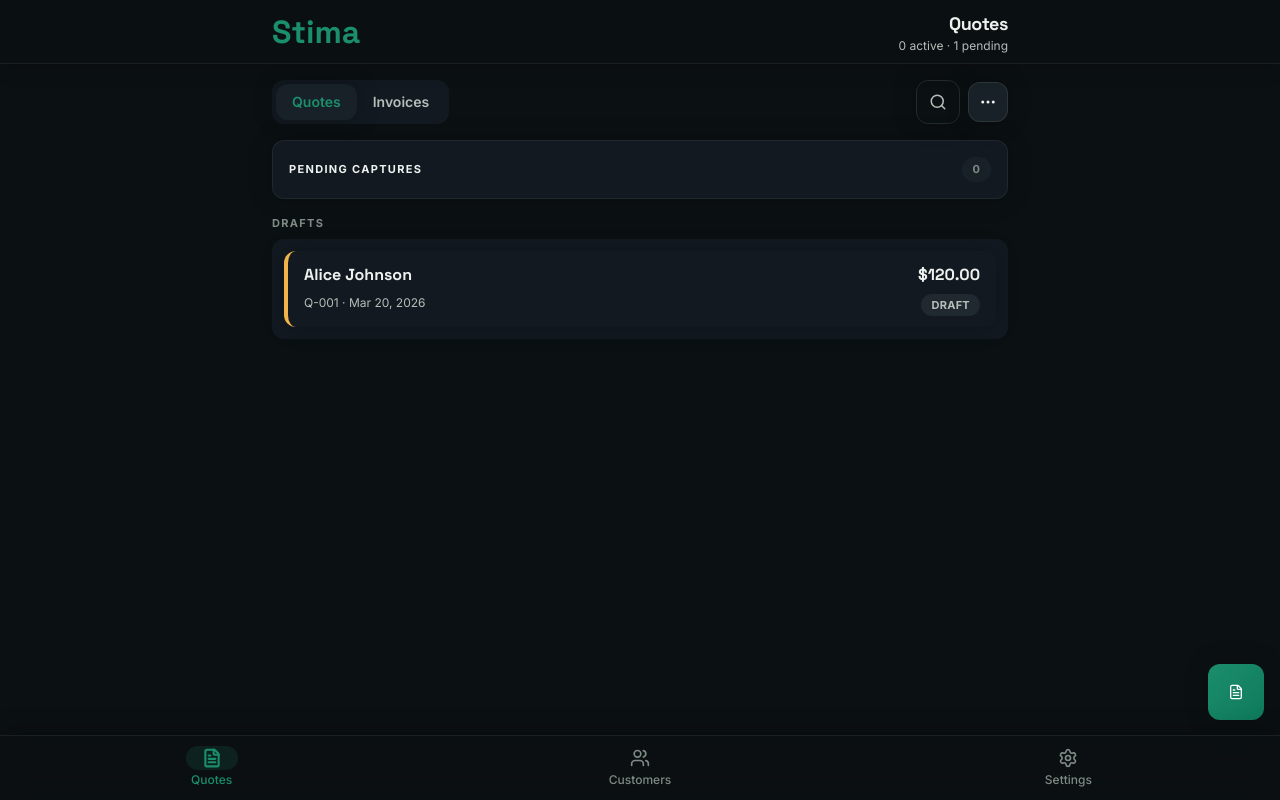
QuoteList › clears the query from input-end control and keeps search open
Expected: the text "Q-001 · Mar 20, 2026" is shown, 304,295 -> 426,311
Click the button named "Open search". click: (938, 102)
box: 916,80 -> 960,124
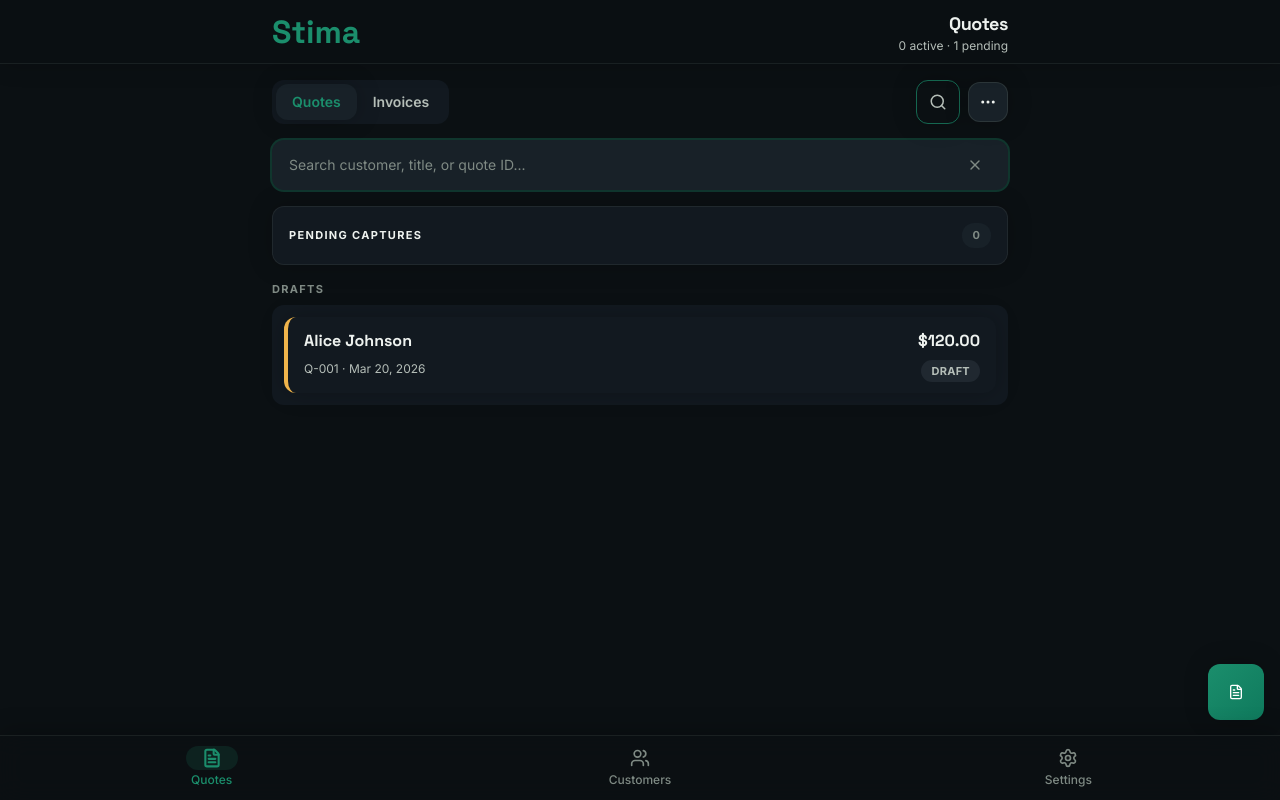
Type "alice" into the field named "Search quotes". click: (620, 165)
box: 289,155 -> 951,175
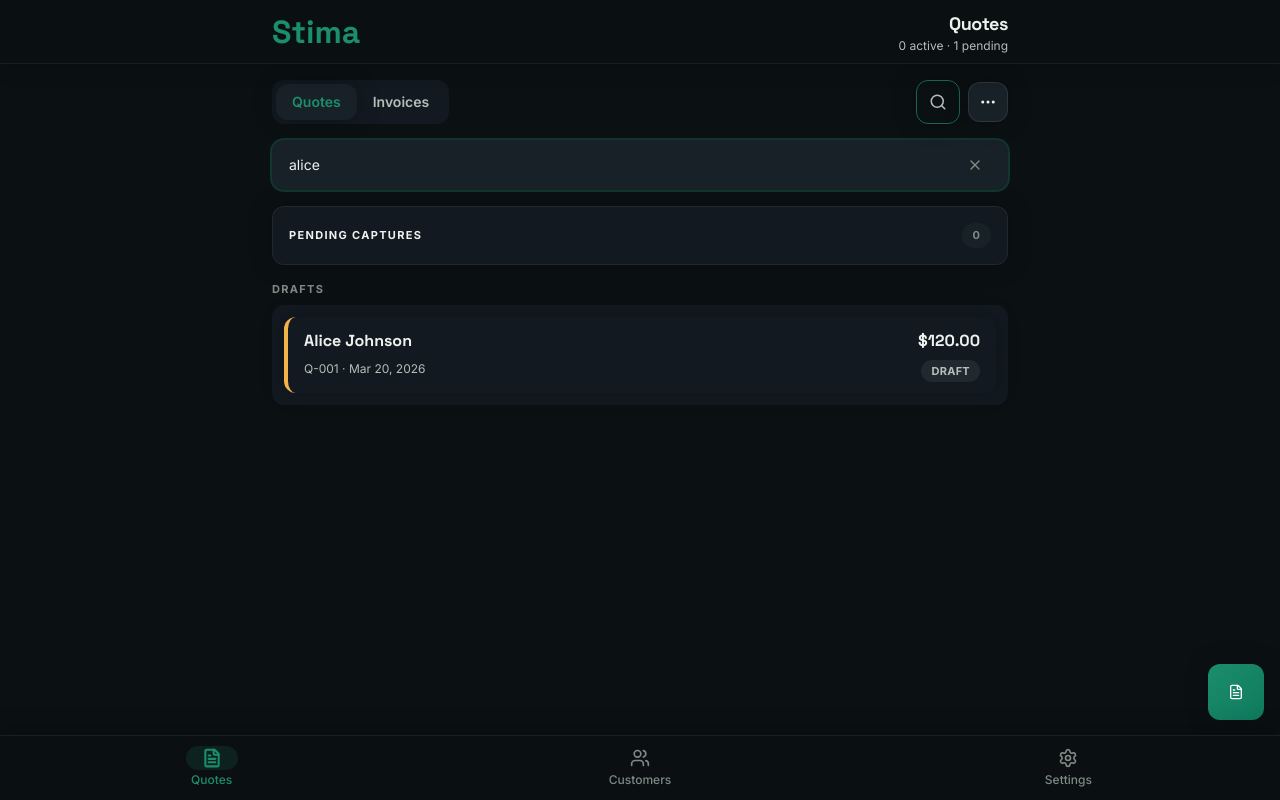
Click the button named "Clear search text". click: (975, 165)
box: 959,149 -> 991,181
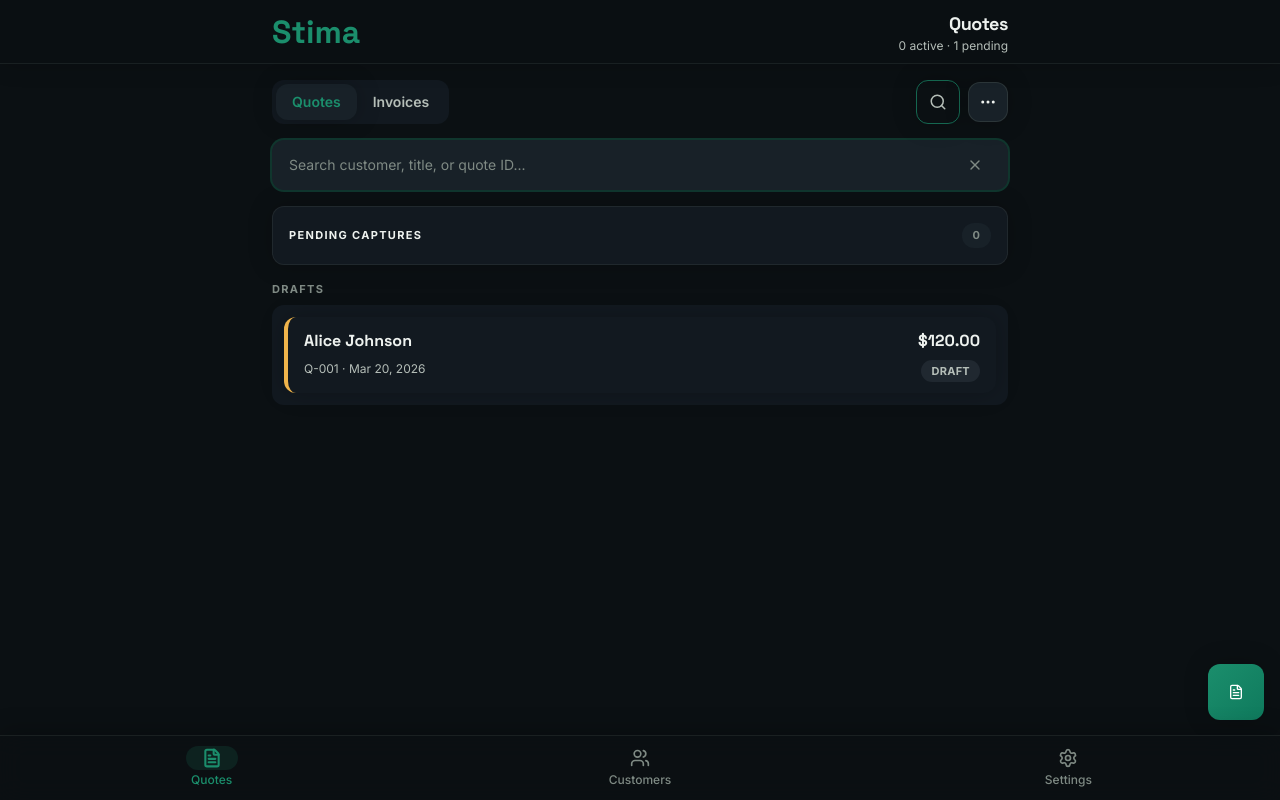
Expected: the button named "Close search" is shown, 916,80 -> 960,124
Expected: the field named "Search quotes" is empty, 289,155 -> 951,175
